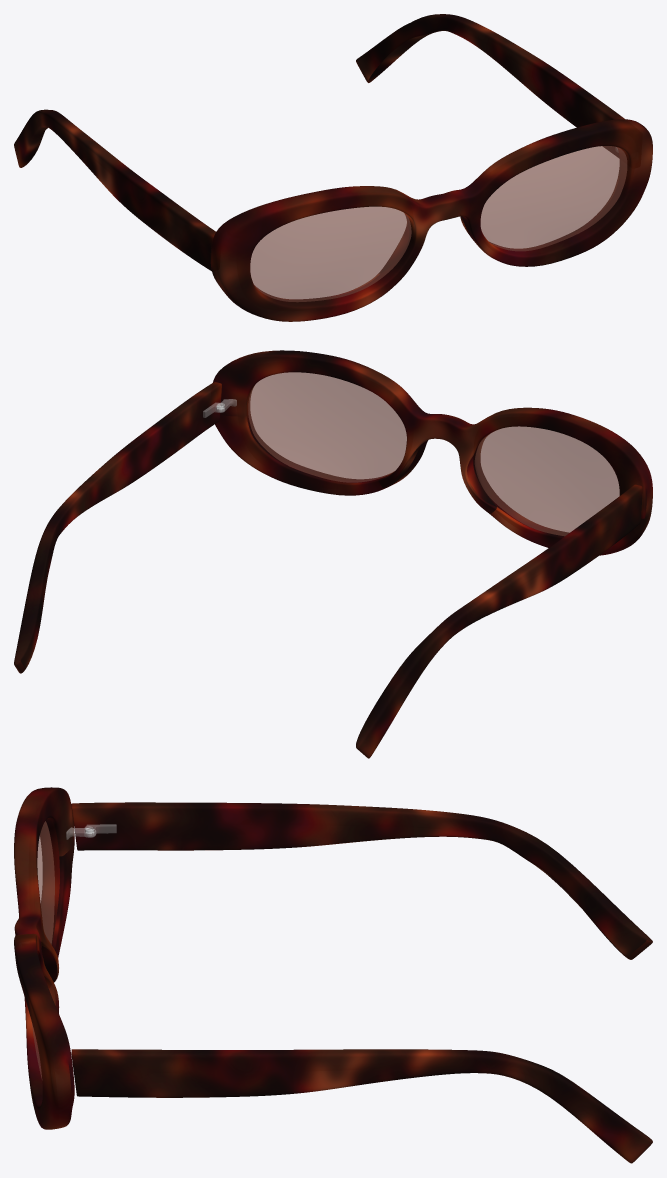
The model's file is millie-sun-sbf-ancho-tortoise_wide.glb.
3 renders of one model, top to bottom at view 1: azimuth 30°, elevation 25°; view 2: azimuth 150°, elevation 25°; view 3: azimuth 270°, elevation 25°, orthographic. The views are drawn at different scales.
Visible parts, largest first — view 1: face_front, lenses, left_temple, right_temple; view 2: lenses, face_front, right_temple, left_temple; view 3: right_temple, left_temple, face_front, lenses.
Part boxes in pixels (bbox=[...]): face_front: bbox=[210, 119, 652, 321]; lenses: bbox=[250, 146, 627, 302]; left_temple: bbox=[356, 14, 624, 158]; right_temple: bbox=[14, 109, 215, 271]; lenses: bbox=[248, 372, 619, 536]; face_front: bbox=[213, 350, 652, 555]; right_temple: bbox=[356, 484, 642, 758]; left_temple: bbox=[14, 382, 221, 673]; right_temple: bbox=[71, 802, 652, 959]; left_temple: bbox=[71, 1049, 652, 1163]; face_front: bbox=[14, 787, 74, 1129]; lenses: bbox=[32, 821, 54, 1079].
Bounding box in the file's own units: 0.1396 × 0.0445 × 0.1477.
3 materials, 1 textured.
